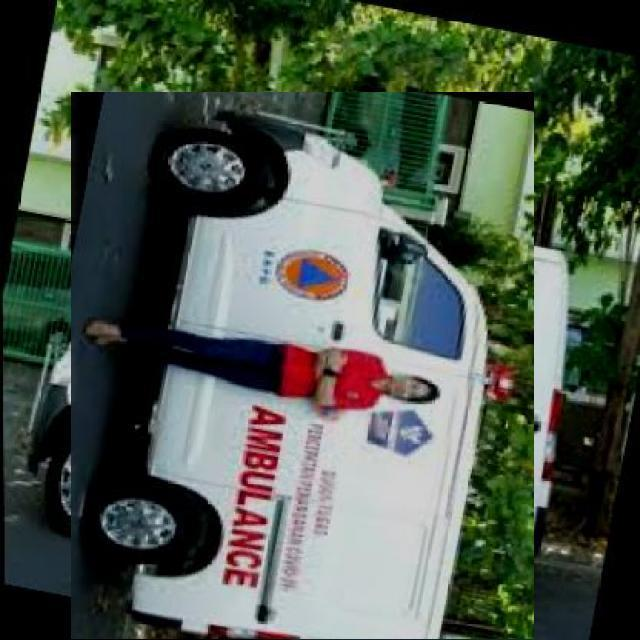emergency-vehicle: (39, 123, 565, 640)
